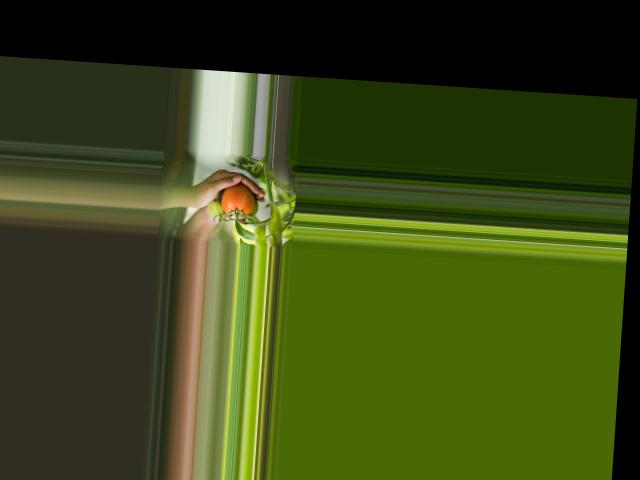tomato: (220, 183, 254, 219)
